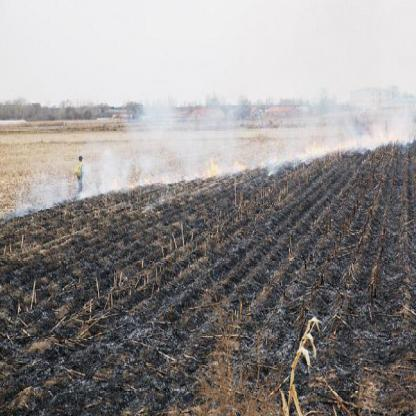fire: (118, 155, 292, 191)
smoke: (296, 130, 416, 162)
